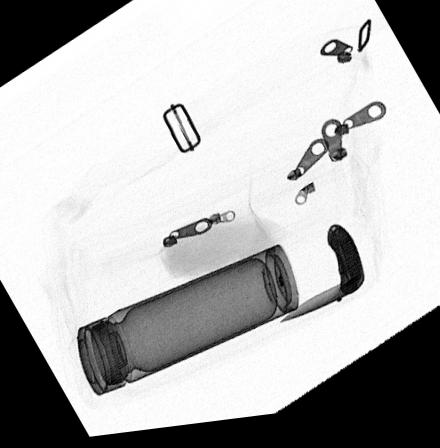Knife: (277, 231, 367, 332)
